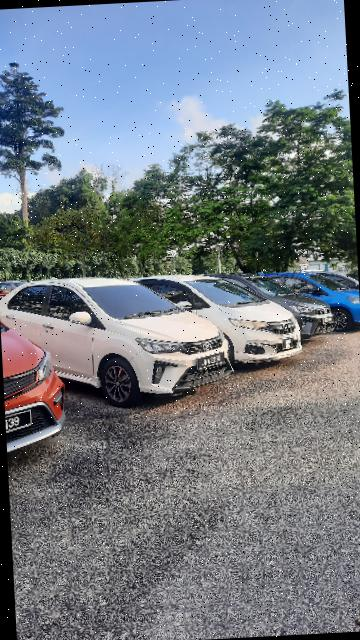License_Plate: (196, 349, 227, 373), (279, 334, 298, 352), (323, 315, 336, 325)
car: (1, 267, 237, 413), (126, 262, 308, 380), (1, 304, 73, 455), (229, 270, 341, 350), (282, 266, 360, 335)
